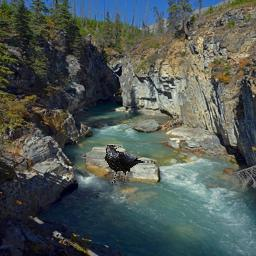Crow: (105, 144, 146, 184)
